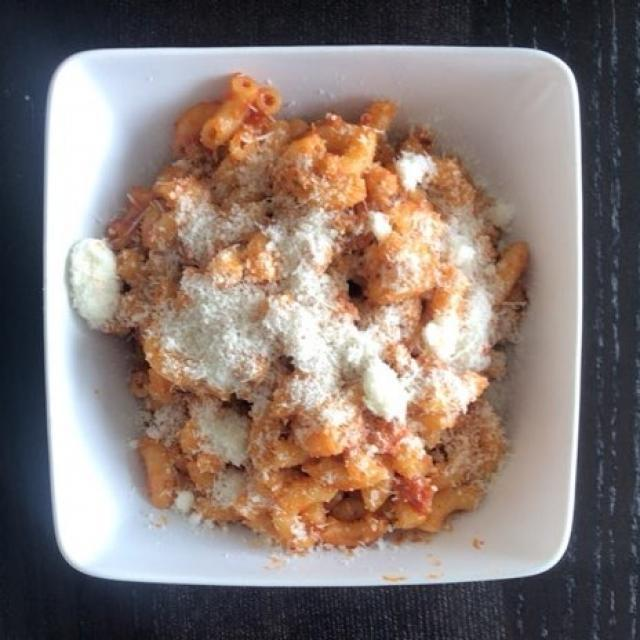pasta: (71, 92, 522, 550), (114, 86, 518, 546)
